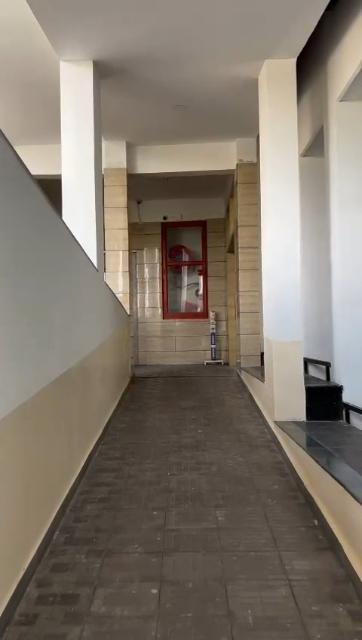floor: (1, 367, 362, 640)
wall: (0, 132, 132, 617), (58, 61, 136, 380), (253, 75, 305, 408), (310, 32, 362, 356), (139, 227, 161, 361), (207, 214, 229, 306), (162, 322, 204, 366)
